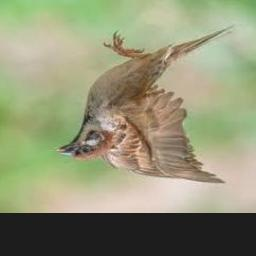Sparrow: (55, 27, 236, 184)
